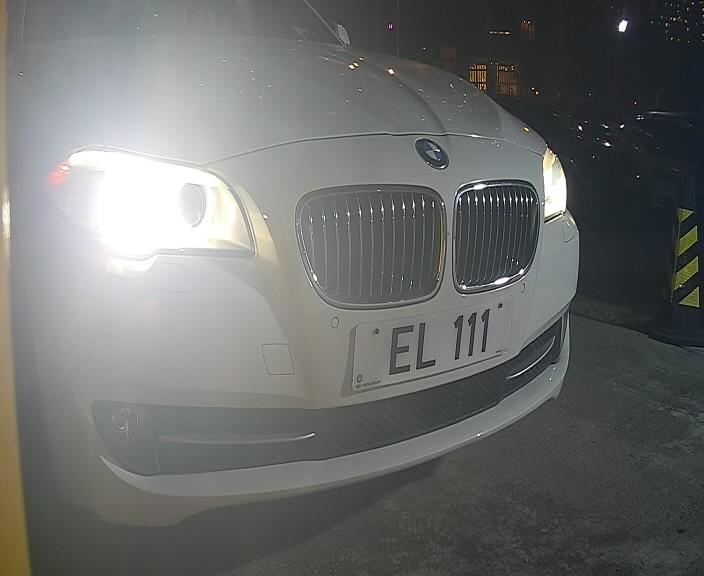License Plate: (356, 286, 519, 394)
